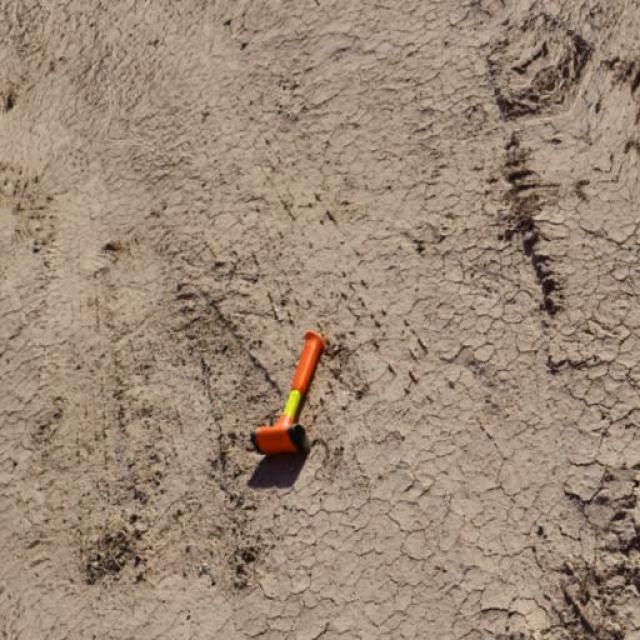mallet: (249, 329, 326, 456)
